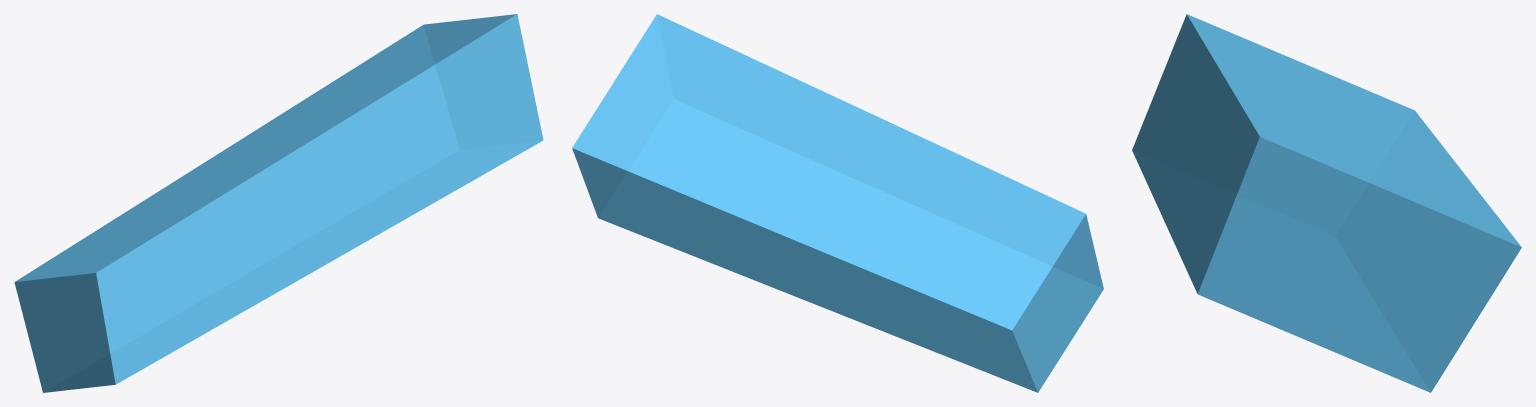
Rendered from Event_421115418_HErechit_47.fbx.
The picture shows the model from 3 angles, left to right: view 1: azimuth 30°, elevation 25°; view 2: azimuth 150°, elevation 25°; view 3: azimuth 270°, elevation 25°; orthographic projection. The views are drawn at different scales.
Parts seen in each view (by area): view 1: Model; view 2: Model; view 3: Model.
Boxes of the visible parts, x1,y1,x2,y2 form: Model: [14, 14, 543, 392]; Model: [572, 14, 1103, 392]; Model: [1132, 14, 1521, 392].
Bounding box in the file's own units: 1.52 × 0.9314 × 0.8142.
